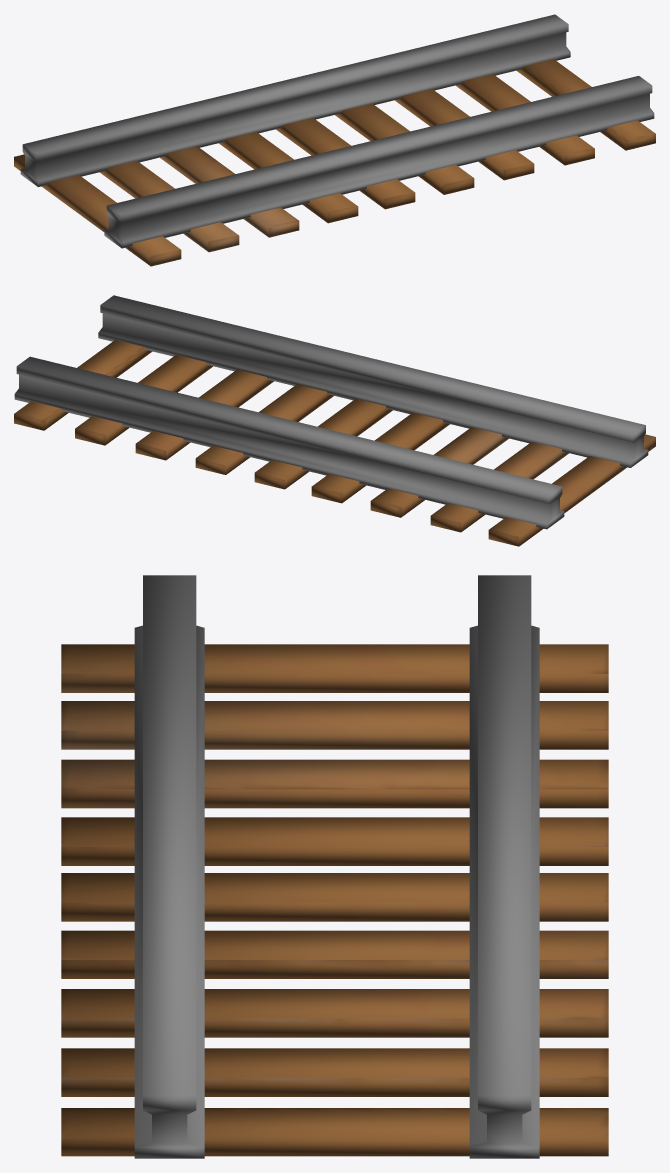
File: rail.fbx
3 renders of one model, top to bottom at view 1: azimuth 30°, elevation 25°; view 2: azimuth 150°, elevation 25°; view 3: azimuth 270°, elevation 25°, orthographic. The views are drawn at different scales.
Visible parts, largest first — view 1: RailForward; view 2: RailForward; view 3: RailForward.
Part boxes in pixels (x1,y1,x2,y2): RailForward: [14, 14, 655, 266]; RailForward: [14, 295, 655, 546]; RailForward: [61, 575, 608, 1158].
Size of the model in its own units: 455 by 31.73 by 203.
Materials: 1 (1 with a texture image).
